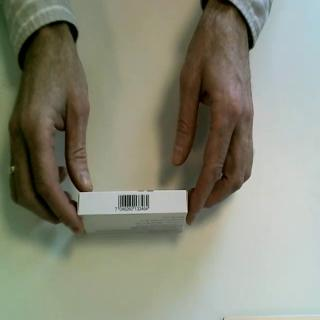oxycontin5mg: (77, 189, 189, 237)
